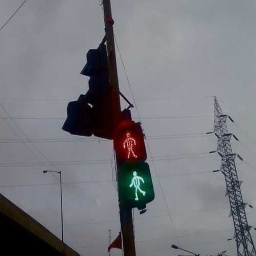traffic light: (62, 49, 116, 138), (113, 120, 155, 204)
